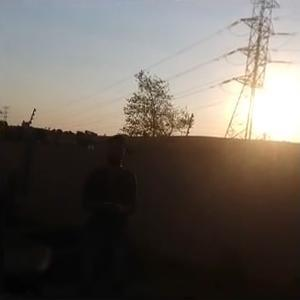follow: (78, 127, 149, 298)
